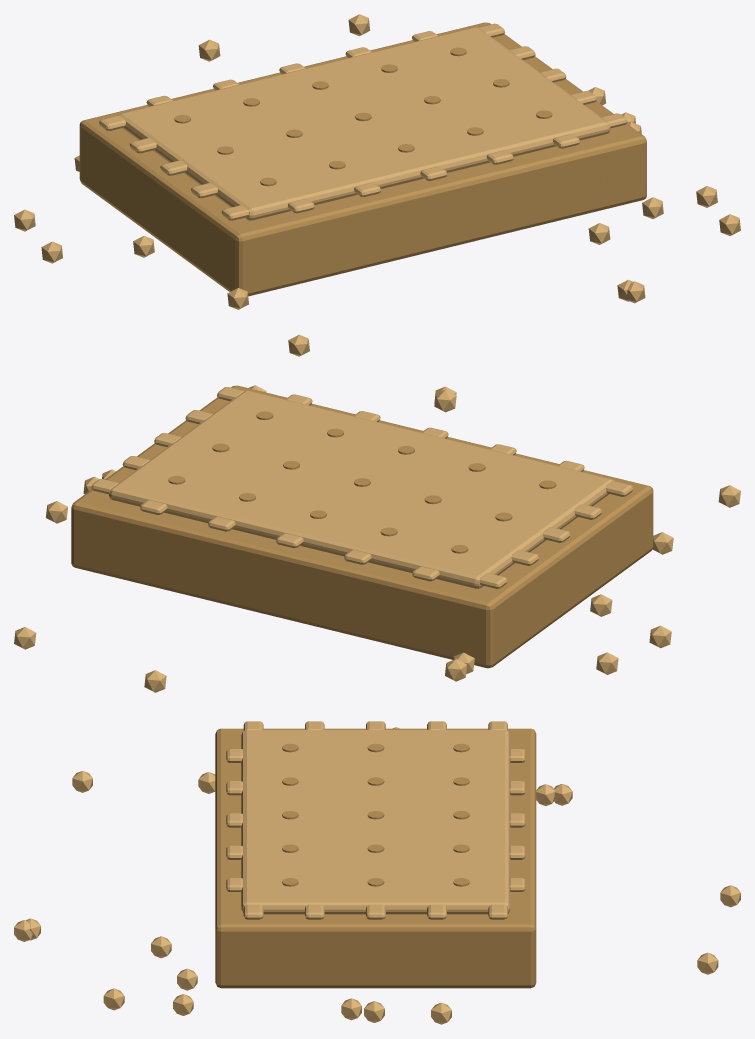
The model's file is biscuit.glb.
3 views of the same model, one above another, from view 1: azimuth 30°, elevation 25°; view 2: azimuth 150°, elevation 25°; view 3: azimuth 270°, elevation 25° (orthographic). The views are drawn at different scales.
Visible parts, largest first — view 1: Pressed top, Biscuit body; view 2: Pressed top, Biscuit body; view 3: Pressed top, Biscuit body.
Part boxes in pixels (x1,y1,x2,y2): Pressed top: [117, 27, 610, 220]; Biscuit body: [79, 22, 646, 296]; Pressed top: [109, 390, 614, 588]; Biscuit body: [71, 385, 653, 668]; Pressed top: [241, 729, 510, 914]; Biscuit body: [215, 728, 536, 988].
Size of the model in its own units: 2.2 by 0.294 by 2.38.
